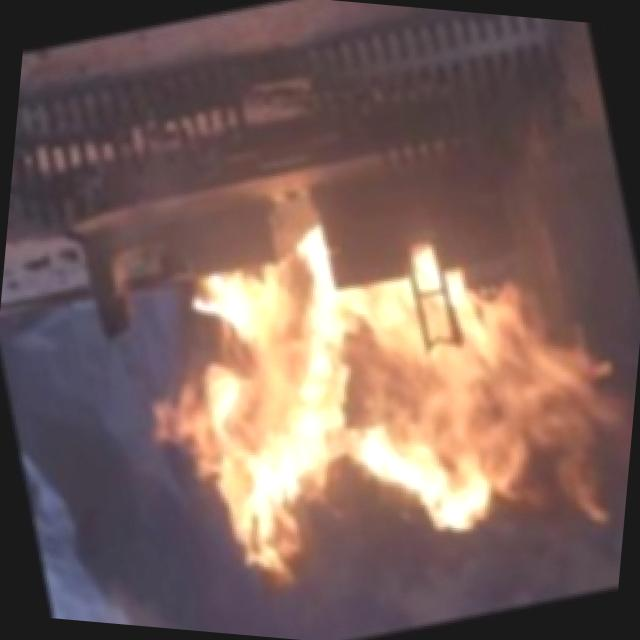fire: (101, 173, 630, 640)
